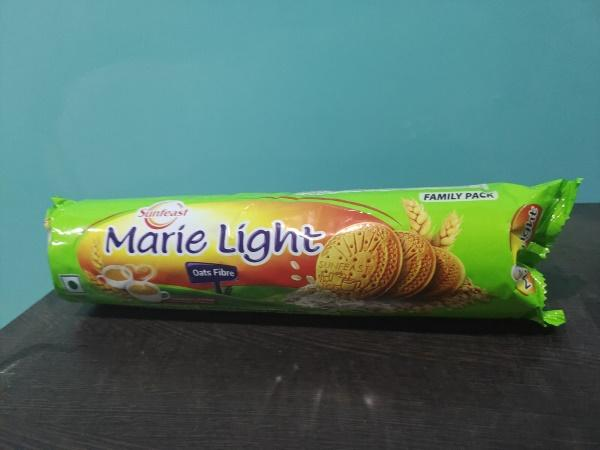MarieLight: (36, 177, 579, 334)
